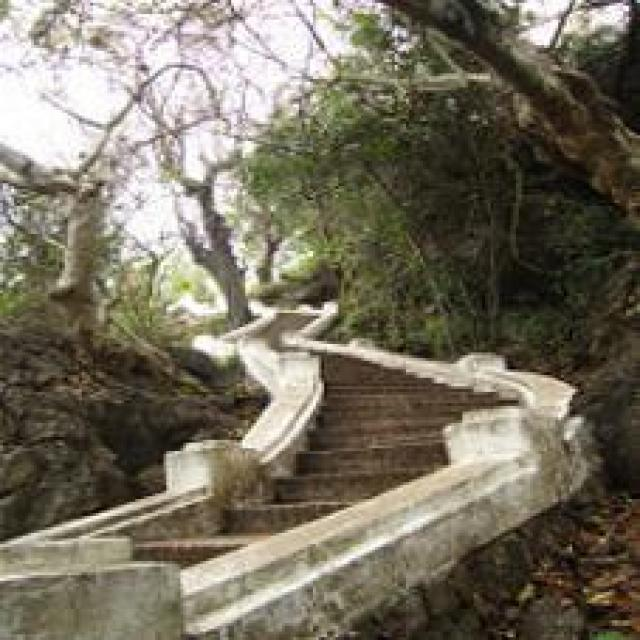upstair: (241, 308, 534, 517)
